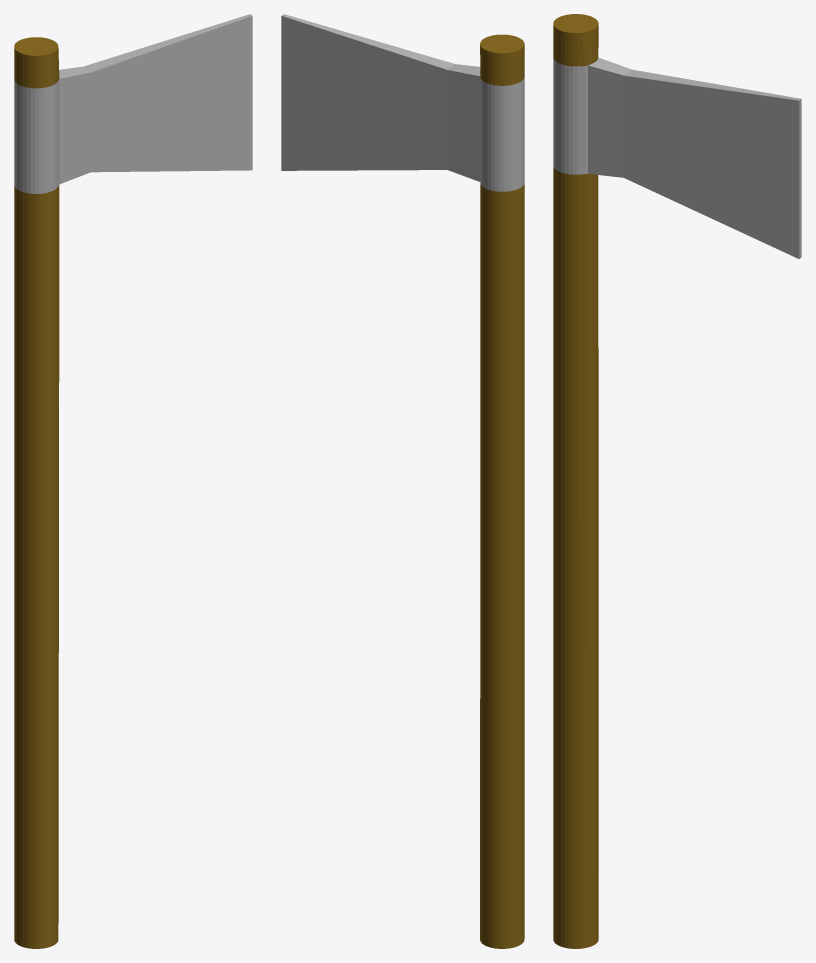
The model's file is axe.obj.
3 views of the same model, side by side, from view 1: azimuth 30°, elevation 25°; view 2: azimuth 150°, elevation 25°; view 3: azimuth 330°, elevation 25° (orthographic). The views are drawn at different scales.
Visible parts, largest first — view 1: Cylinder; view 2: Cylinder; view 3: Cylinder.
Boxes of the visible parts, x1=… form: Cylinder: x1=14, y1=14, x2=252, y2=948; Cylinder: x1=281, y1=14, x2=524, y2=948; Cylinder: x1=553, y1=14, x2=801, y2=948.
Size of the model in its own units: 1.48 by 5.34 by 0.2404.
1 material, 1 textured.
